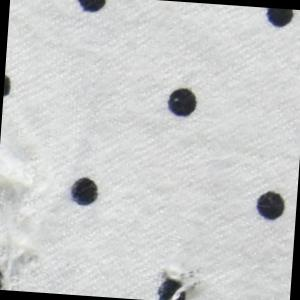Damage: (1, 161, 45, 293), (157, 254, 220, 300)
